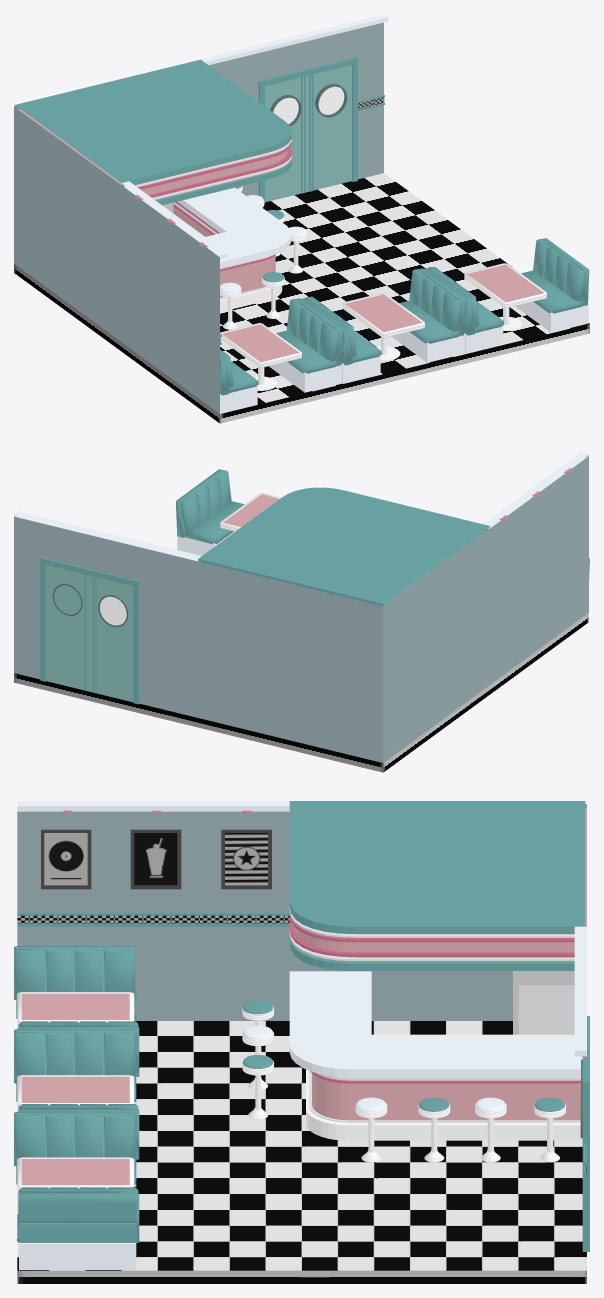
The model's file is cafeteria-hero.glb.
The picture shows the model from 3 angles, top to bottom: view 1: azimuth 30°, elevation 25°; view 2: azimuth 150°, elevation 25°; view 3: azimuth 270°, elevation 25°; orthographic projection. The views are drawn at different scales.
Parts seen in each view (by area): view 1: Cubo, Cubo.013, Cubo.065; view 2: Cubo, Cubo.013; view 3: Cubo, Cubo.013, Cubo.065, Cubo.008, Cubo.060, Cubo.061, Cubo.064.
Part boxes in pixels (x1=…): Cubo: x1=14, y1=14, x2=589, y2=413; Cubo.013: x1=14, y1=173, x2=589, y2=423; Cubo.065: x1=135, y1=139, x2=291, y2=299; Cubo: x1=14, y1=452, x2=589, y2=762; Cubo.013: x1=14, y1=613, x2=588, y2=772; Cubo: x1=14, y1=801, x2=589, y2=1269; Cubo.013: x1=17, y1=1021, x2=586, y2=1283; Cubo.065: x1=289, y1=907, x2=580, y2=1122; Cubo.008: x1=17, y1=915, x2=586, y2=1172; Cubo.060: x1=44, y1=833, x2=87, y2=885; Cubo.061: x1=134, y1=833, x2=177, y2=885; Cubo.064: x1=225, y1=833, x2=267, y2=885.
Size of the model in its own units: 0.5633 by 0.2443 by 0.5472.
8 materials, 8 textured.
